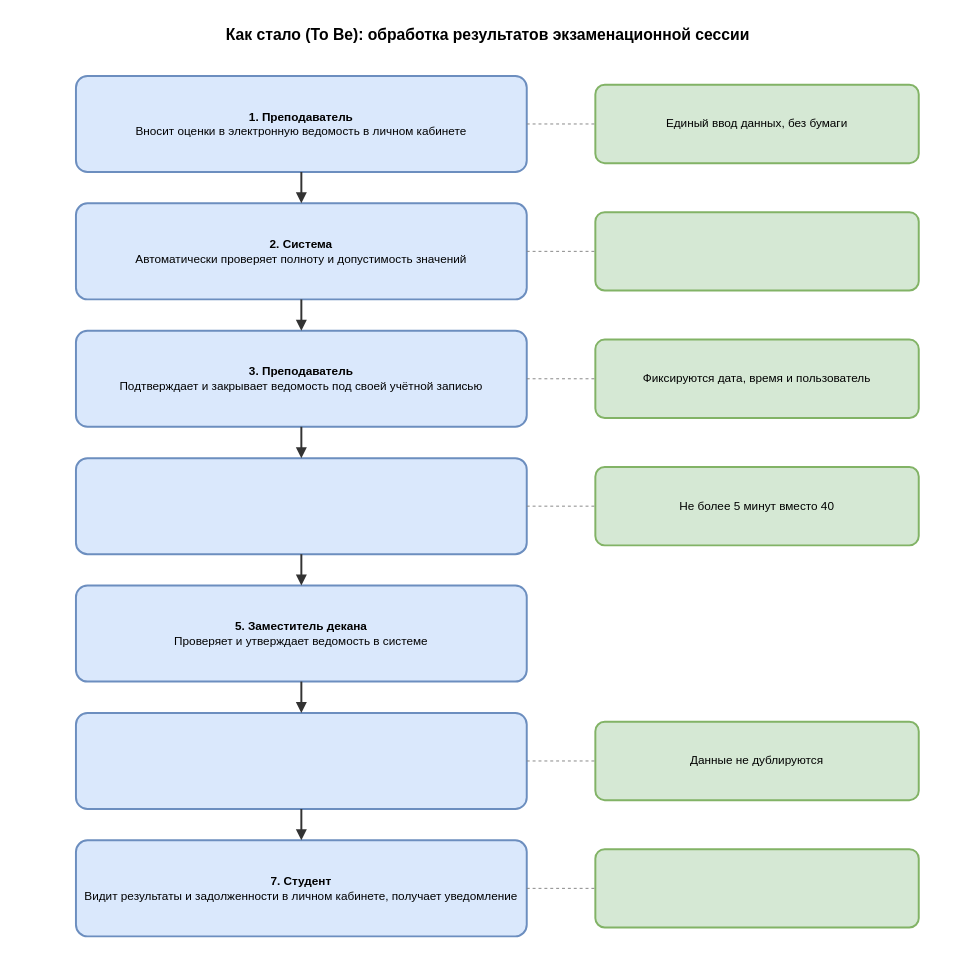
This 974x954 diagram has some shape labels left out. The shapes that lost their labels are listed below. From the top down, each one's centre as x and y in pixels, then its label:
the point at 756,251: Ошибки отсекаются при вводе (цель: не более 1%)
the point at 300,506: 4. Система Автоматически формирует сводную ведомость по группе
the point at 300,760: 6. Система Формирует проект приказа по шаблону и передаёт на согласование
the point at 756,888: Доступ к результатам в день закрытия ведомости
